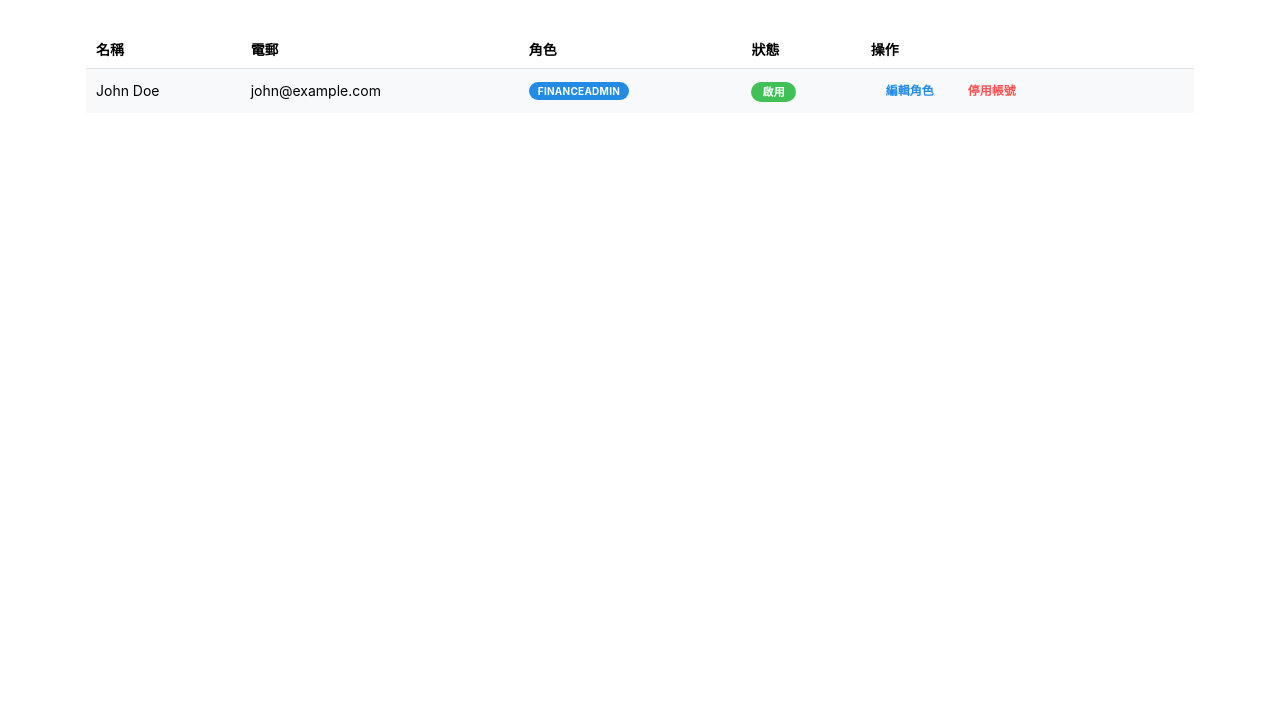
Test: UserAdminPage › opens deactivate confirmation modal when deactivate button is clicked
This screenshot has width=1280, height=720.
expect the text "John Doe" is shown: met, box [86,68,241,113]
Click the button "停用帳號" at (992, 91), box [953,76,1031,106]
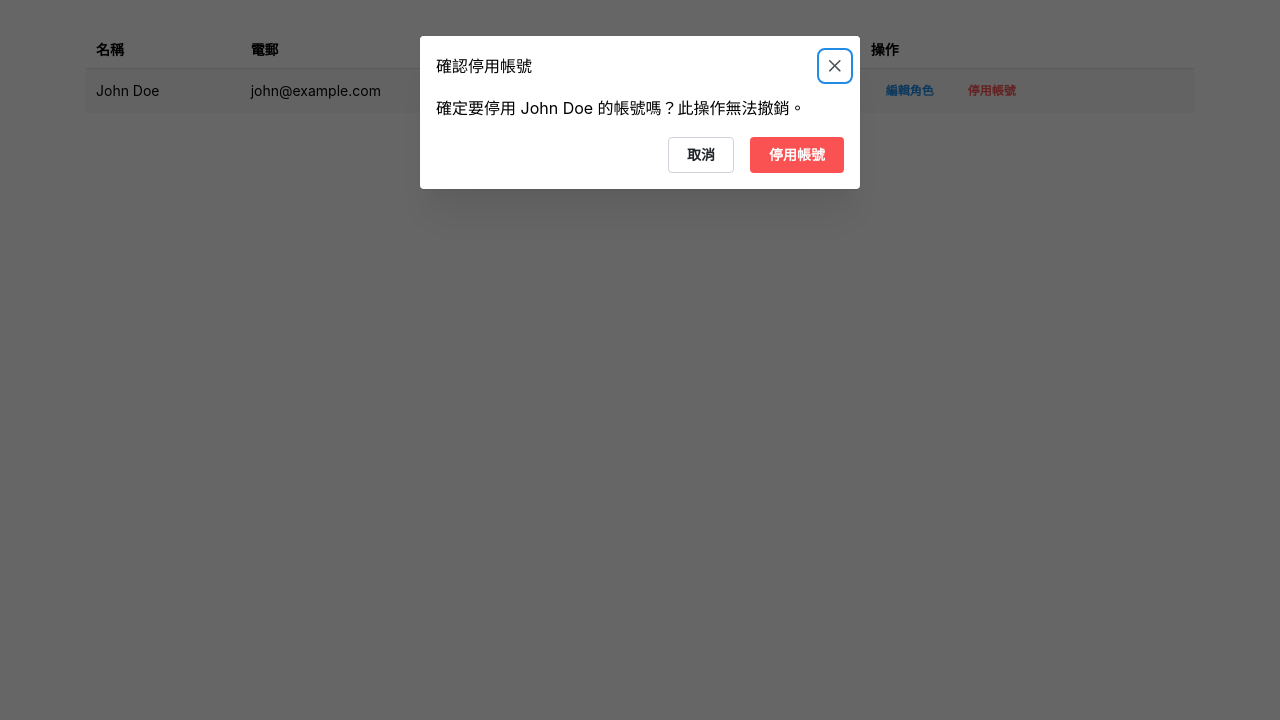
expect the heading "確認停用帳號" is shown: met, box [436,58,532,74]
